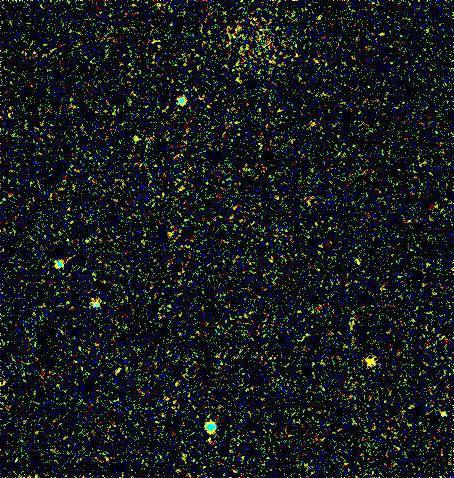star: (357, 347, 387, 377)
